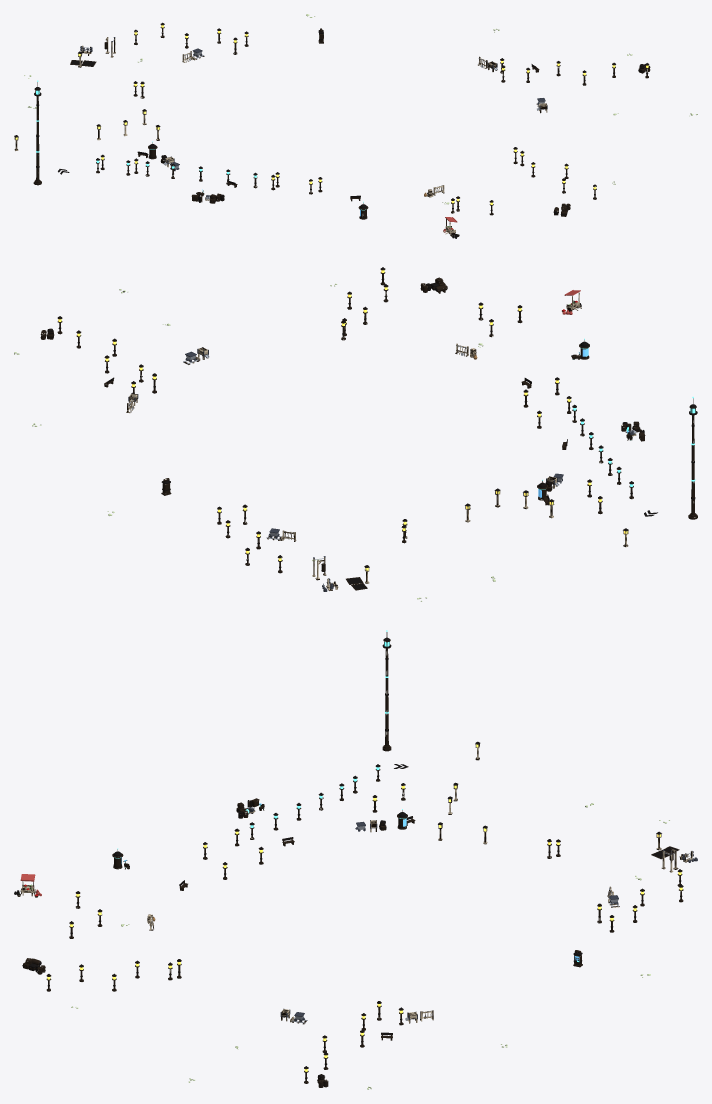
Rendered from ILHA2_09_PROPS_94f9d4.fbx.
The picture shows the model from 3 angles, top to bottom: view 1: azimuth 30°, elevation 25°; view 2: azimuth 150°, elevation 25°; view 3: azimuth 270°, elevation 25°; orthographic projection. The views are drawn at different scales.
Parts seen in each view (by area): view 1: DB_Prop_Capsule__Plaster_DB_White_g13_9, DB_Prop_Capsule__Plaster_DB_White_g12_10, DB_Prop_Capsule__Roof_DB_Blue_g13_9, DB_Prop_Capsule__Plaster_DB_Navy_g13_9; view 2: DB_Prop_Capsule__Plaster_DB_White_g13_9, DB_Prop_Capsule__Plaster_DB_White_g12_10, DB_Prop_Capsule__Plaster_DB_Navy_g13_9, DB_Prop_Capsule__Roof_DB_Blue_g13_9; view 3: DB_Prop_Capsule__Plaster_DB_White_g13_9, DB_Prop_Capsule__Plaster_DB_White_g12_10, DB_Prop_Capsule__Plaster_DB_Navy_g13_9, DB_Prop_Capsule__Roof_DB_Blue_g13_9.
Boxes of the visible parts, x1,y1,x2,y2 form: DB_Prop_Capsule__Plaster_DB_White_g13_9: [196, 59, 649, 218]; DB_Prop_Capsule__Plaster_DB_White_g12_10: [34, 24, 175, 182]; DB_Prop_Capsule__Roof_DB_Blue_g13_9: [135, 28, 648, 217]; DB_Prop_Capsule__Plaster_DB_Navy_g13_9: [33, 35, 650, 219]; DB_Prop_Capsule__Plaster_DB_White_g13_9: [47, 268, 641, 448]; DB_Prop_Capsule__Plaster_DB_White_g12_10: [245, 405, 696, 571]; DB_Prop_Capsule__Plaster_DB_Navy_g13_9: [40, 278, 697, 573]; DB_Prop_Capsule__Roof_DB_Blue_g13_9: [47, 267, 644, 544]; DB_Prop_Capsule__Plaster_DB_White_g13_9: [23, 801, 403, 1083]; DB_Prop_Capsule__Plaster_DB_White_g12_10: [318, 639, 683, 900]; DB_Prop_Capsule__Plaster_DB_Navy_g13_9: [24, 632, 683, 1087]; DB_Prop_Capsule__Roof_DB_Blue_g13_9: [22, 800, 644, 1080].
Size of the model in its own units: 288 by 52.23 by 251.
13 materials, 4 textured.
